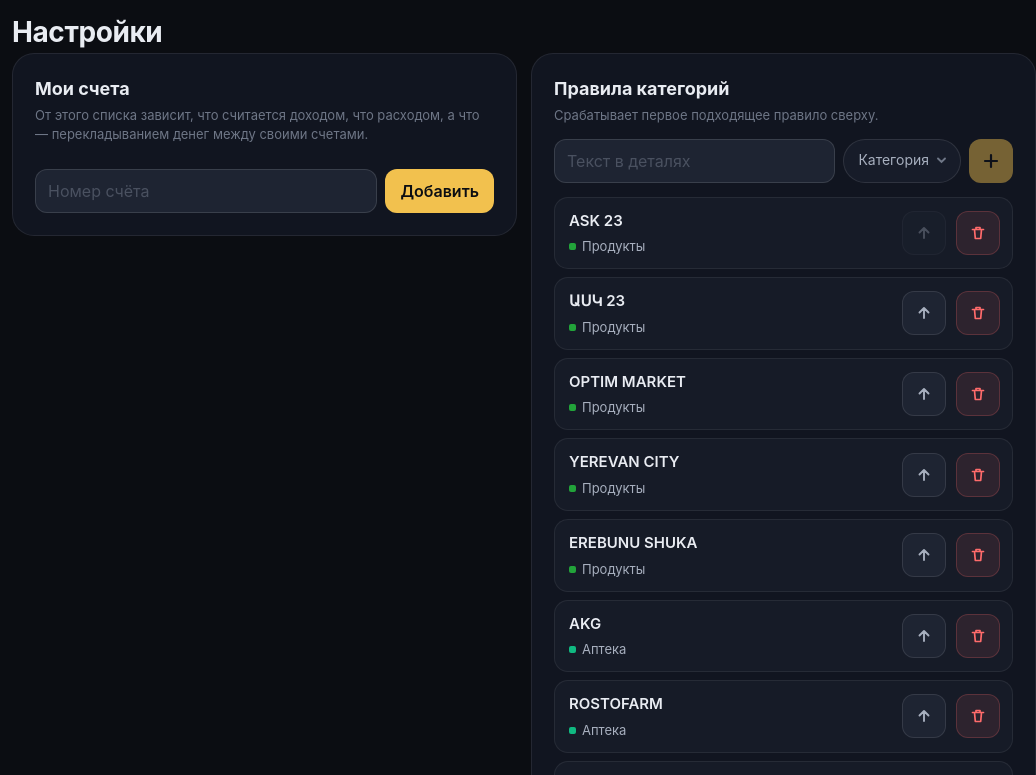
Test: SettingsScreen: свой счёт вручную › не принимает то, что не похоже на номер счёта
Type "12ab" into the field with placeholder "Номер счёта" at (206, 191), box [35,169,378,213]
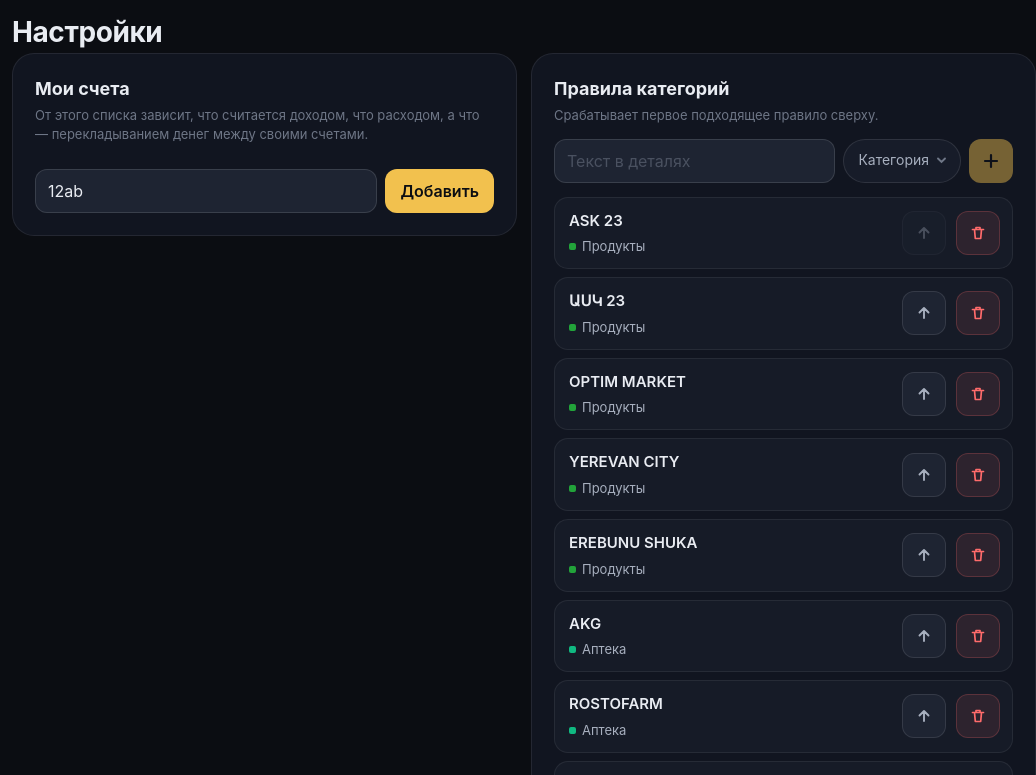
Click the button "Добавить" at (440, 191), box [386,169,494,213]
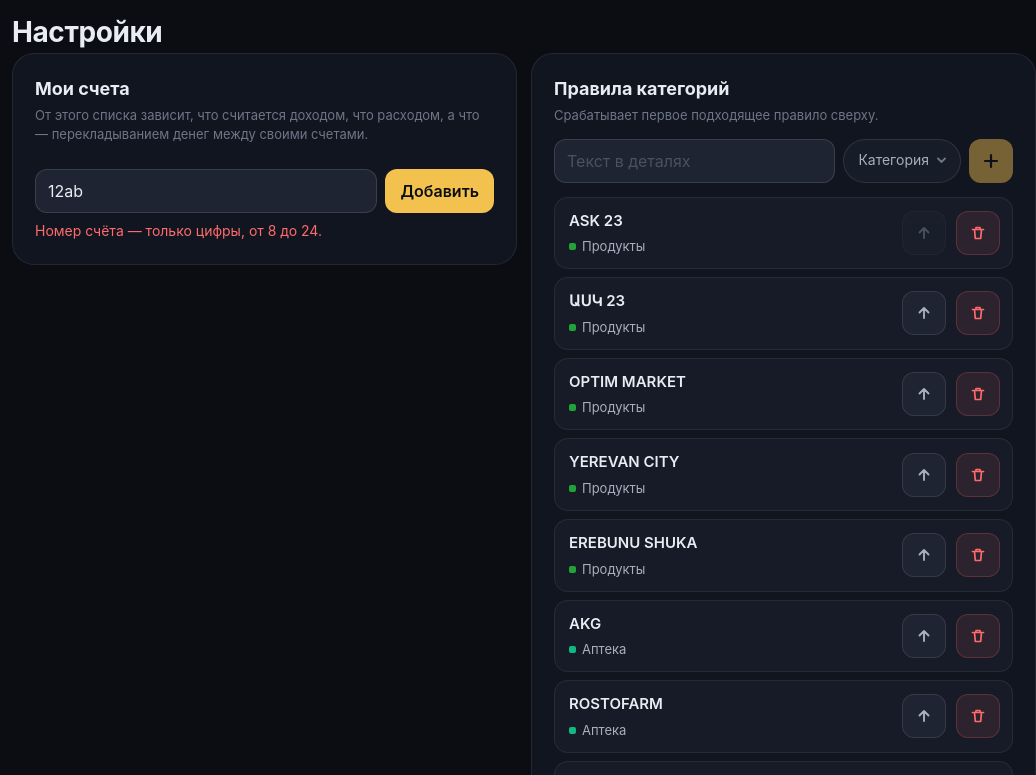
Expected: the text "Номер счёта — только цифры, от 8 до 24." is shown, [35,222,322,239]
